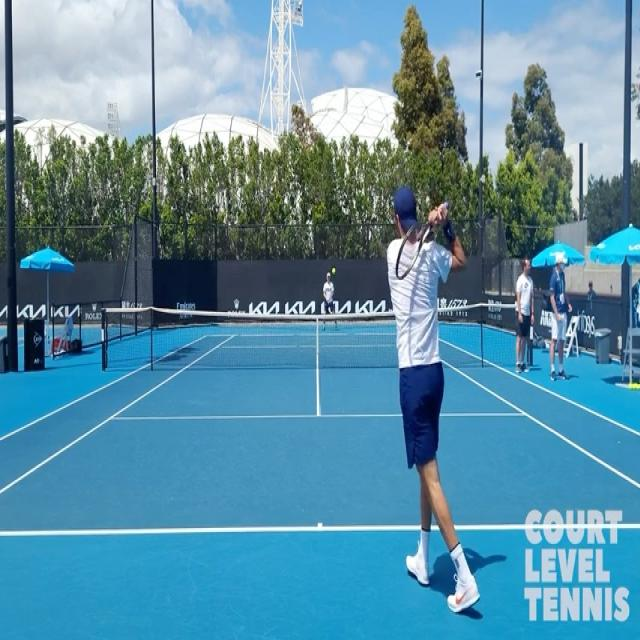forehand-finish: (376, 178, 477, 616)
